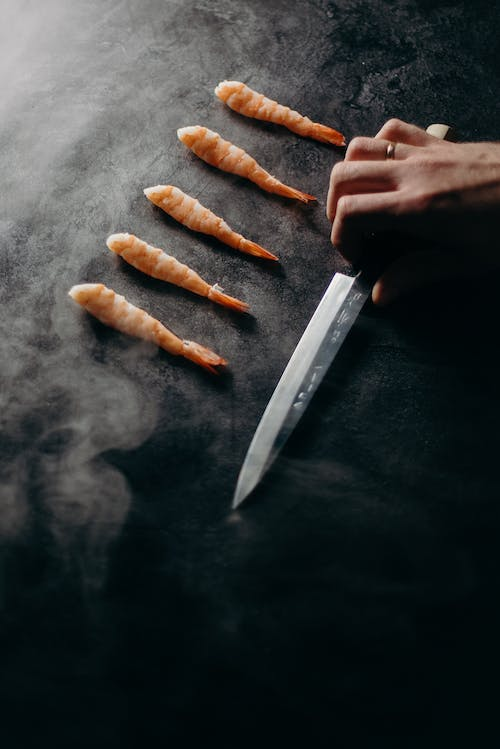knife: (227, 117, 455, 514)
